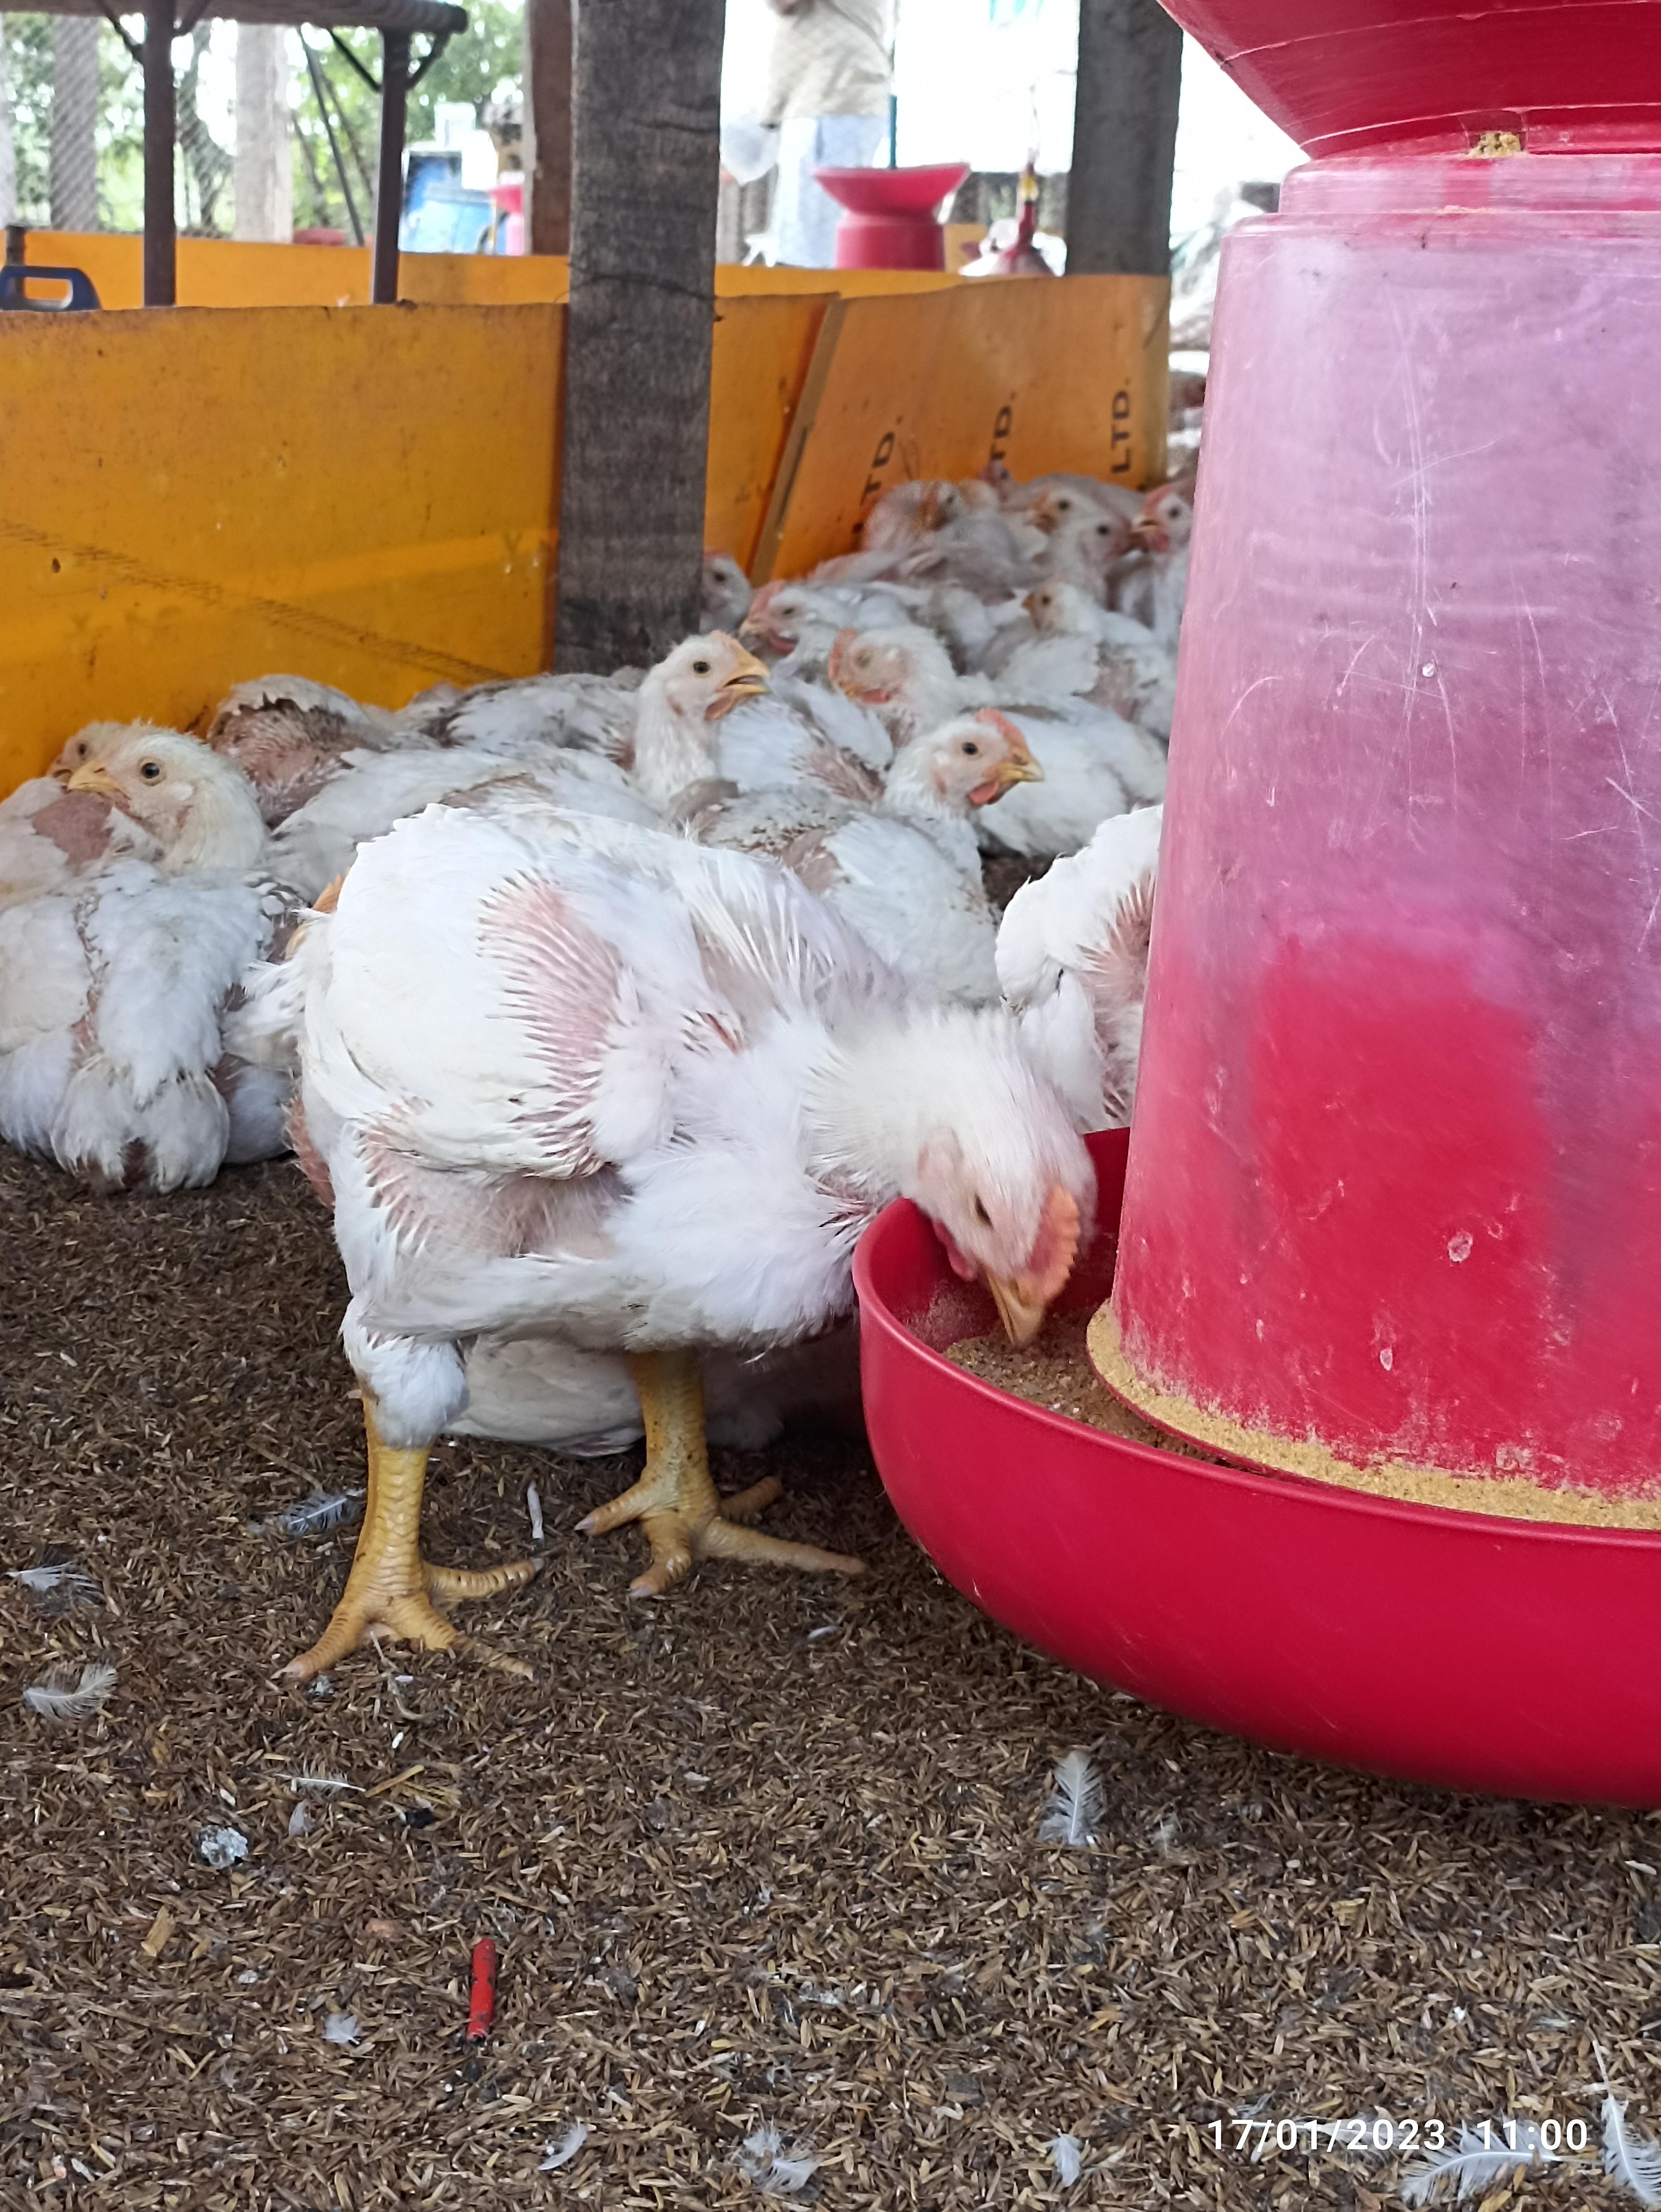Pollos: (309, 806, 1115, 1352), (5, 727, 276, 1160), (771, 698, 1042, 890), (637, 618, 771, 823)
